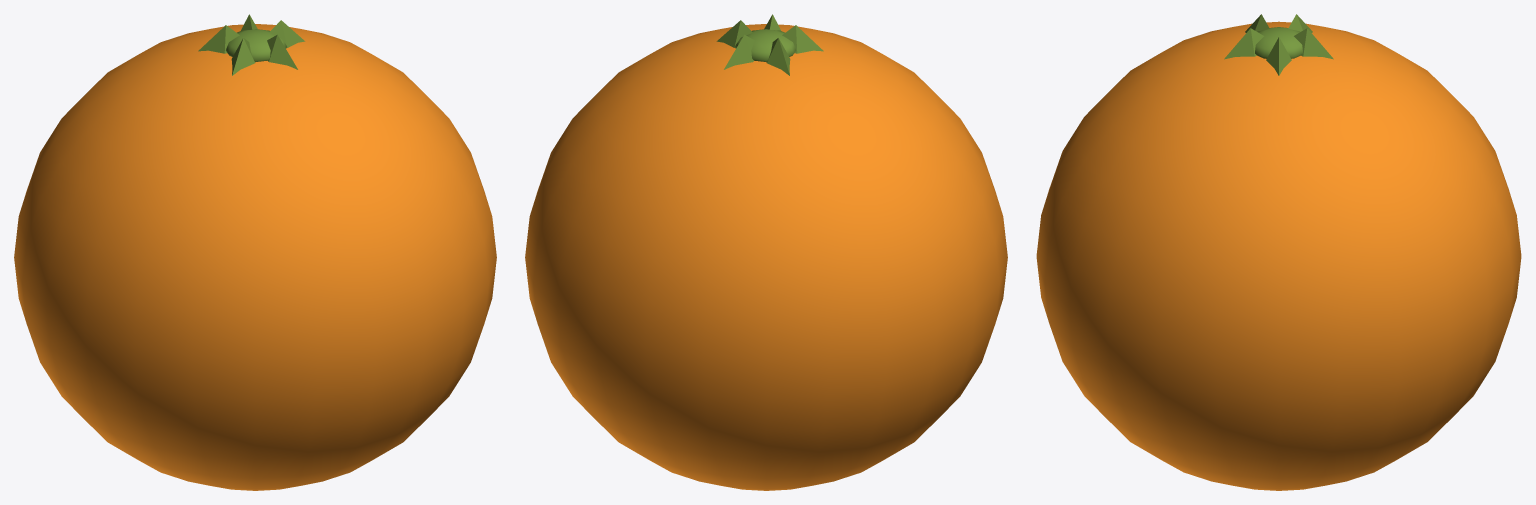
The model's file is food_orange.glb.
3 views of the same model, side by side, from view 1: azimuth 30°, elevation 25°; view 2: azimuth 150°, elevation 25°; view 3: azimuth 270°, elevation 25° (orthographic).
Parts seen in each view (by area): view 1: Orange, Stem button, Tiny calyx leaf.002, Tiny calyx leaf.004, Tiny calyx leaf.003; view 2: Orange, Stem button, Tiny calyx leaf.003, Tiny calyx leaf.001, Tiny calyx leaf.002; view 3: Orange, Stem button, Tiny calyx leaf.001, Tiny calyx leaf.004.
Part boxes in pixels (box(x1,y1,x2,y2)): Orange: box(14, 24, 496, 490); Stem button: box(226, 29, 286, 61); Tiny calyx leaf.002: box(198, 25, 239, 53); Tiny calyx leaf.004: box(267, 34, 297, 69); Tiny calyx leaf.003: box(231, 38, 255, 75); Orange: box(525, 24, 1007, 490); Stem button: box(735, 29, 795, 61); Tiny calyx leaf.003: box(782, 25, 823, 53); Tiny calyx leaf.001: box(724, 34, 754, 69); Tiny calyx leaf.002: box(766, 38, 790, 75); Orange: box(1036, 21, 1521, 490); Stem button: box(1255, 27, 1302, 58); Tiny calyx leaf.001: box(1294, 28, 1333, 59); Tiny calyx leaf.004: box(1224, 28, 1263, 59).
Size of the model in its own units: 0.106 by 0.107 by 0.106.
